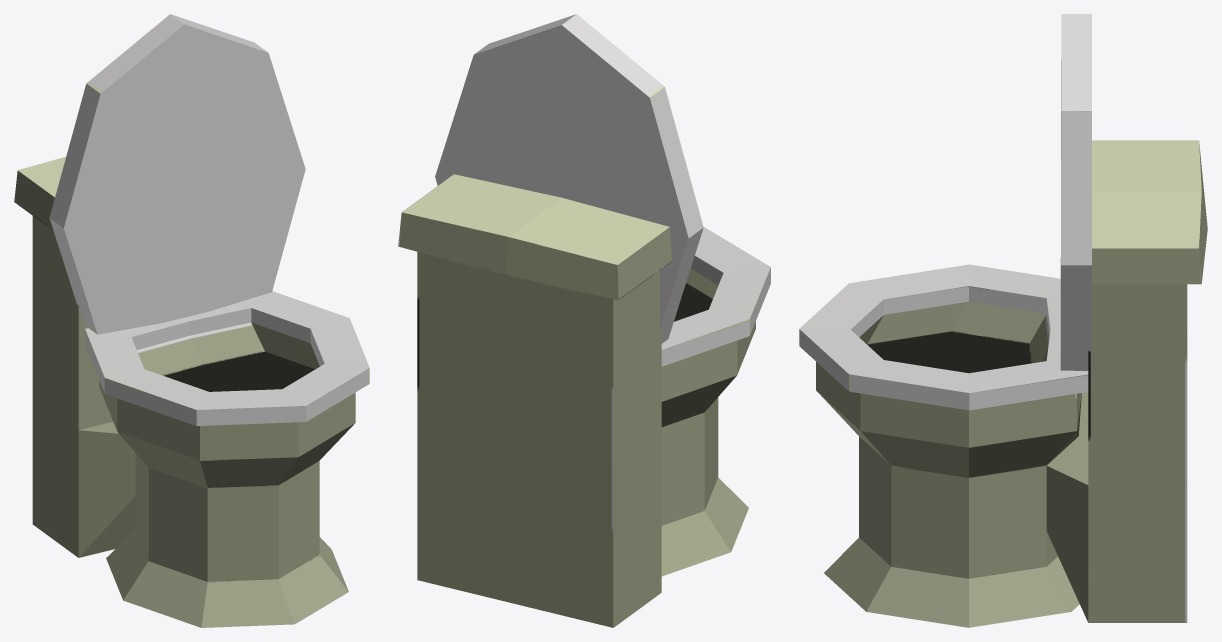
Rendered from Toilet.glb.
3 renders of one model, left to right at view 1: azimuth 30°, elevation 25°; view 2: azimuth 150°, elevation 25°; view 3: azimuth 270°, elevation 25°, orthographic. The views are drawn at different scales.
Parts seen in each view (by area): view 1: ToiletSeat; view 2: ToiletSeat; view 3: ToiletSeat.
Boxes of the visible parts, bbox=[...] form: ToiletSeat: bbox=[14, 14, 369, 627]; ToiletSeat: bbox=[398, 14, 770, 627]; ToiletSeat: bbox=[799, 14, 1207, 627].
Size of the model in its own units: 0.5461 by 1.11 by 0.7328.
1 material, 1 textured.
